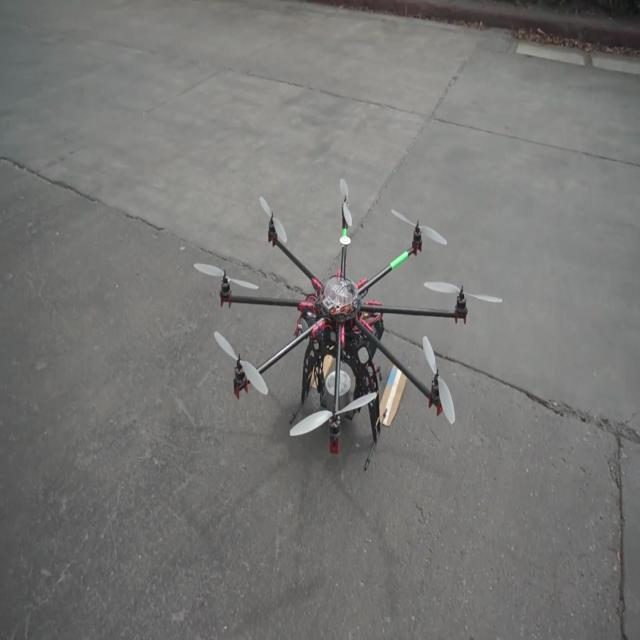drone: (205, 165, 515, 469)
